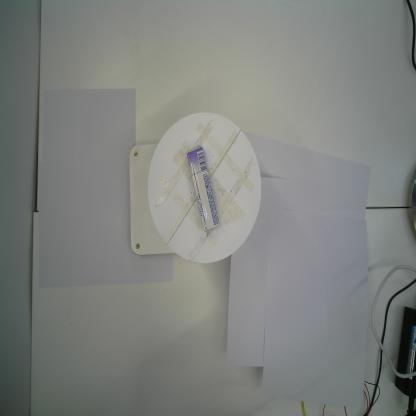Candy: (186, 146, 221, 234)
